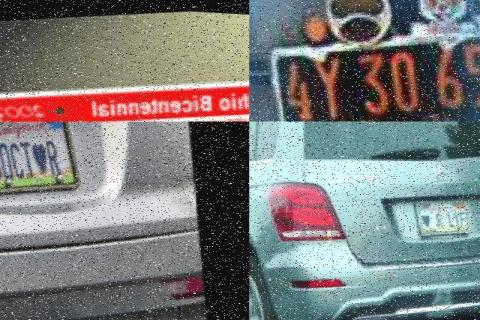LicensePlate: (268, 26, 480, 122), (0, 121, 88, 191), (416, 191, 478, 235)
